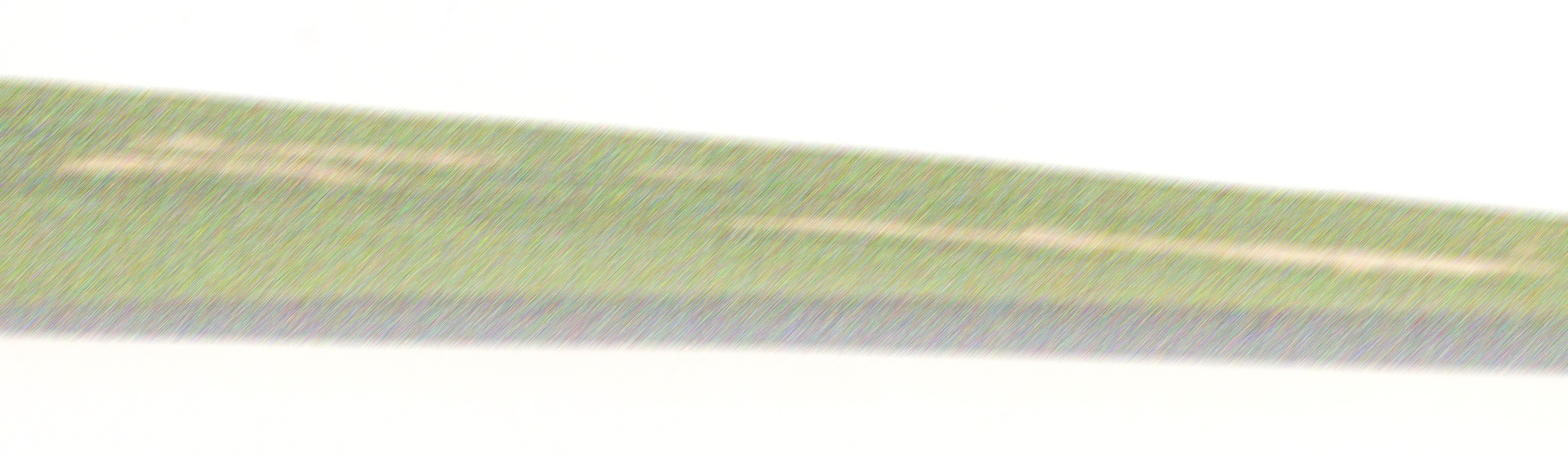Leaf_Blast: (38, 133, 551, 210), (716, 210, 1540, 252)
